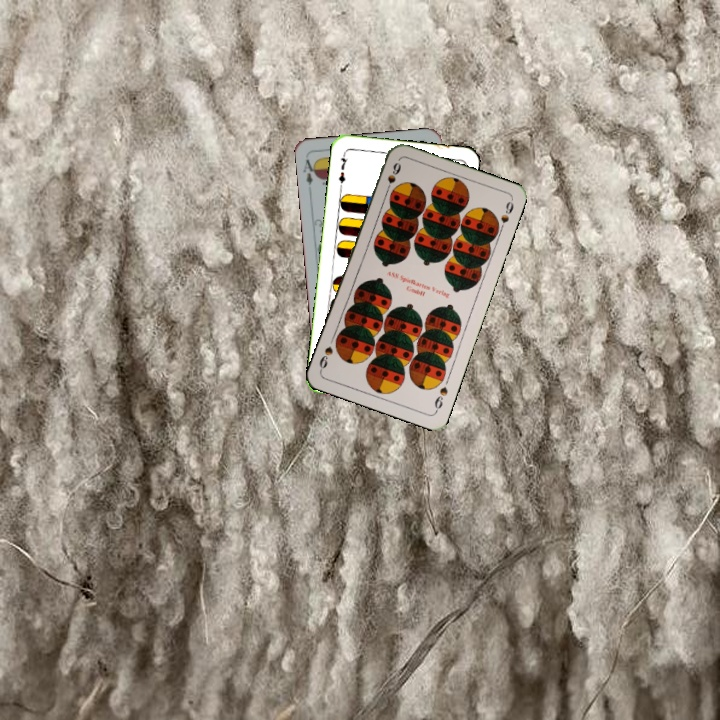E7: (334, 149, 350, 190)
EA: (299, 155, 320, 194)
S9: (381, 158, 404, 196), (430, 382, 451, 414)
